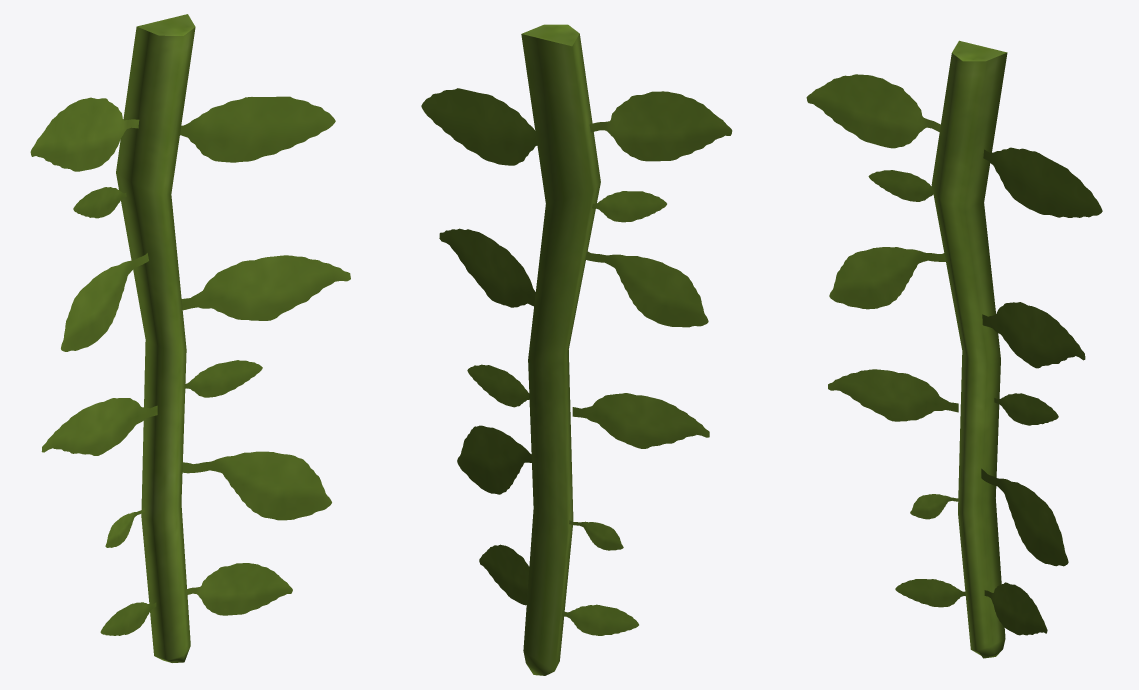
File: Side_ivy01b.fbx
3 views of the same model, side by side, from view 1: azimuth 30°, elevation 25°; view 2: azimuth 150°, elevation 25°; view 3: azimuth 330°, elevation 25° (orthographic). The views are drawn at different scales.
Visible parts, largest first — view 1: polySurface26; view 2: polySurface26; view 3: polySurface26.
Boxes of the visible parts, x1,y1,x2,y2 form: polySurface26: (30,14,350,662); polySurface26: (421,24,732,675); polySurface26: (806,40,1102,658).
Size of the model in its own units: 0.4812 by 0.8458 by 0.1036.
